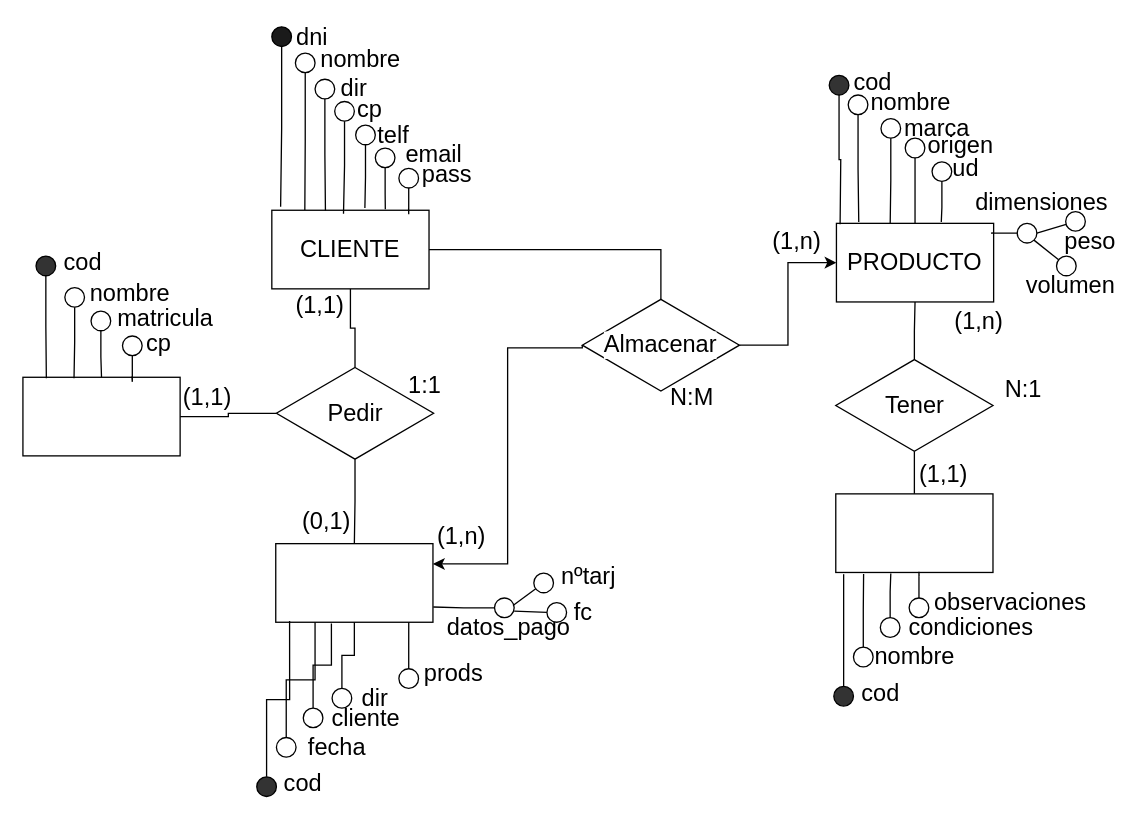
Some shapes in this 1138 by 821 pixel diagram are drawn without their labels. The centre of each missing label's shape, as x and y in pixels:
"CATEGORÍA" goes at point 913,532.
"PEDIDO" goes at point 353,582.
"REPARTIDOR" goes at point 101,416.
